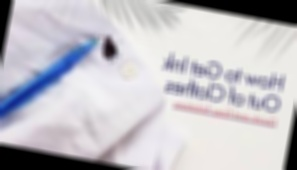ink: (101, 36, 119, 61)
